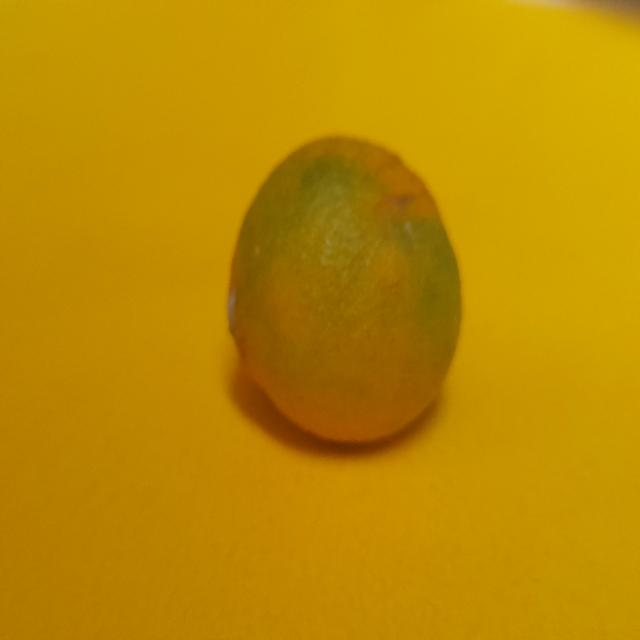greening: (192, 132, 466, 442)
